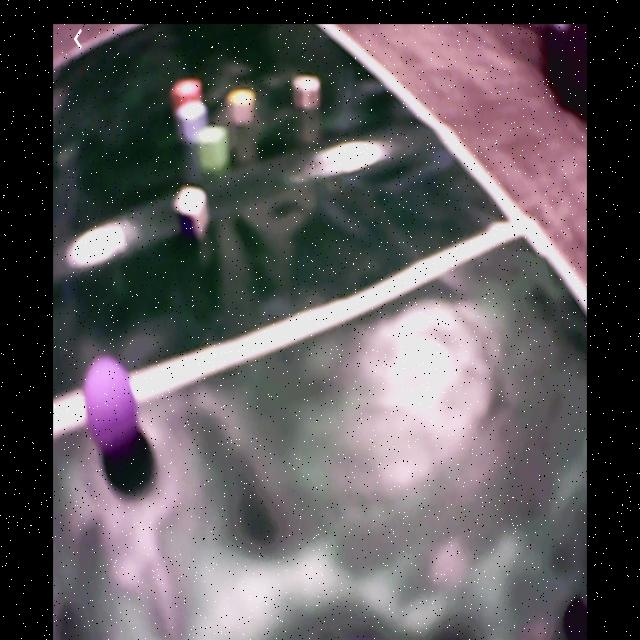ball: (85, 360, 142, 455)
